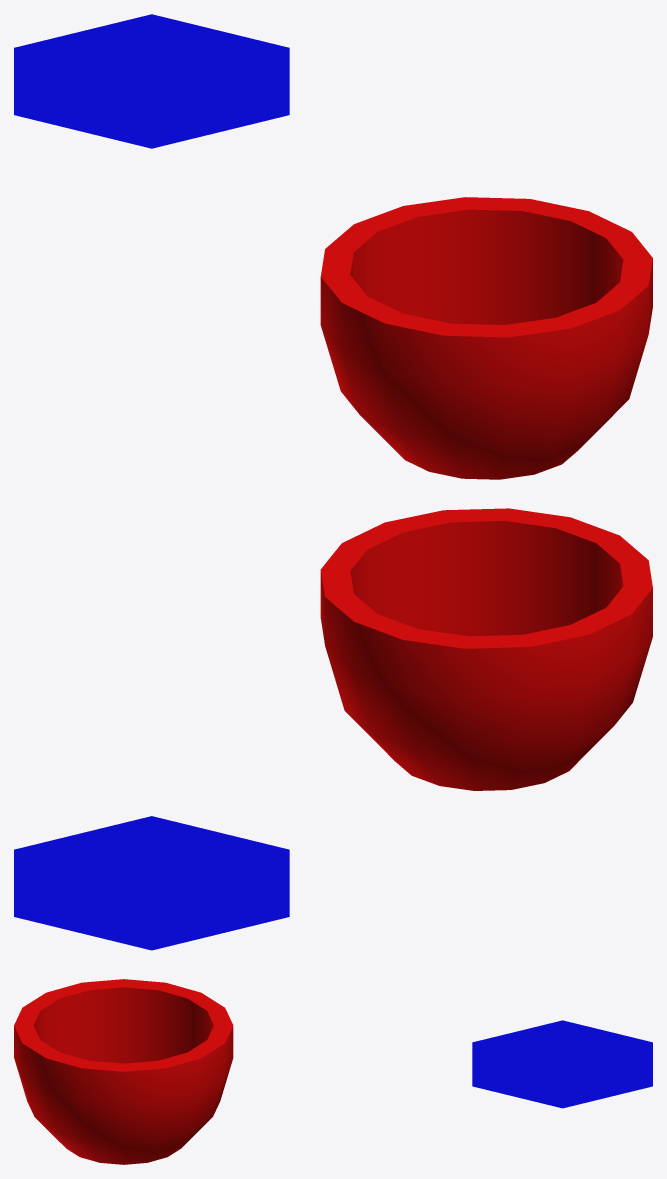
The model's file is reis_low_explosion.fbx.
The picture shows the model from 3 angles, top to bottom: view 1: azimuth 30°, elevation 25°; view 2: azimuth 150°, elevation 25°; view 3: azimuth 270°, elevation 25°; orthographic projection. The views are drawn at different scales.
Visible parts, largest first — view 1: polySurface1, polySurface2; view 2: polySurface1, polySurface2; view 3: polySurface1, polySurface2.
Part boxes in pixels (box(x1,y1,x2,y2)): polySurface1: box(320, 197, 652, 479); polySurface2: box(14, 14, 289, 148); polySurface1: box(320, 508, 652, 790); polySurface2: box(14, 816, 289, 950); polySurface1: box(14, 979, 233, 1164); polySurface2: box(472, 1020, 652, 1108).
Bounding box in the file's own units: 0.5 × 0.2844 × 1.46.
